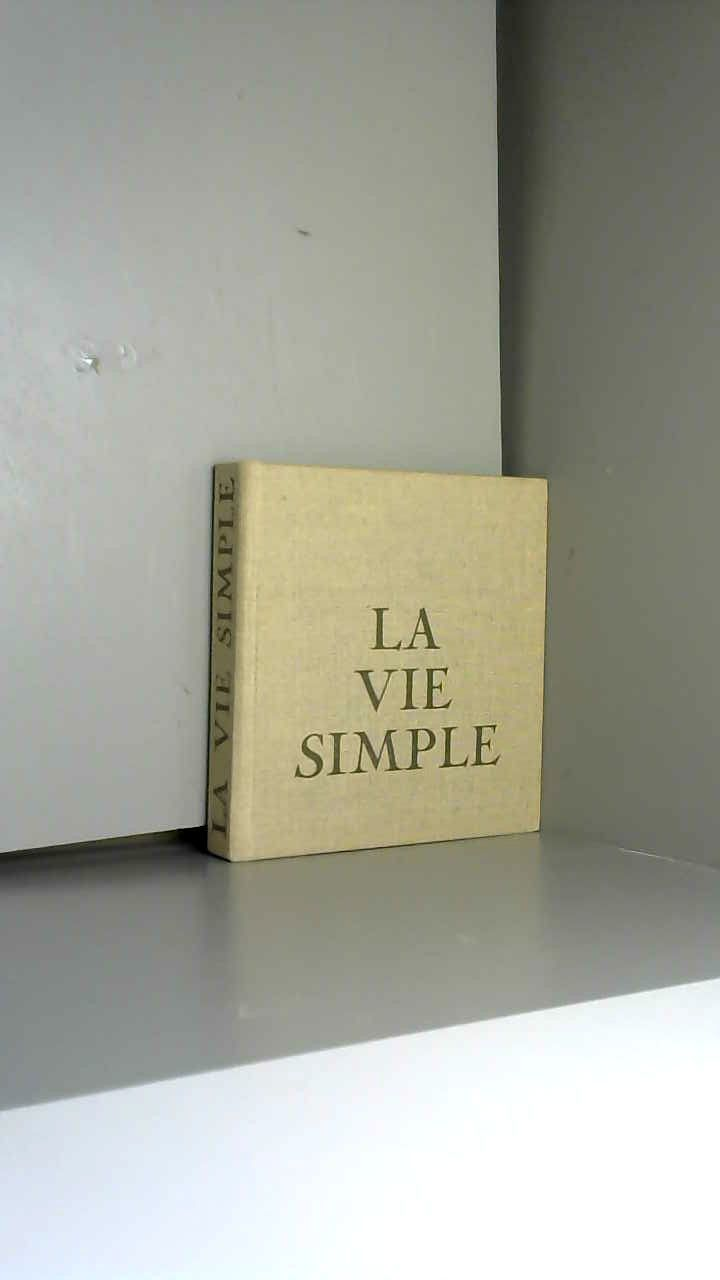book: (168, 423, 587, 903)
